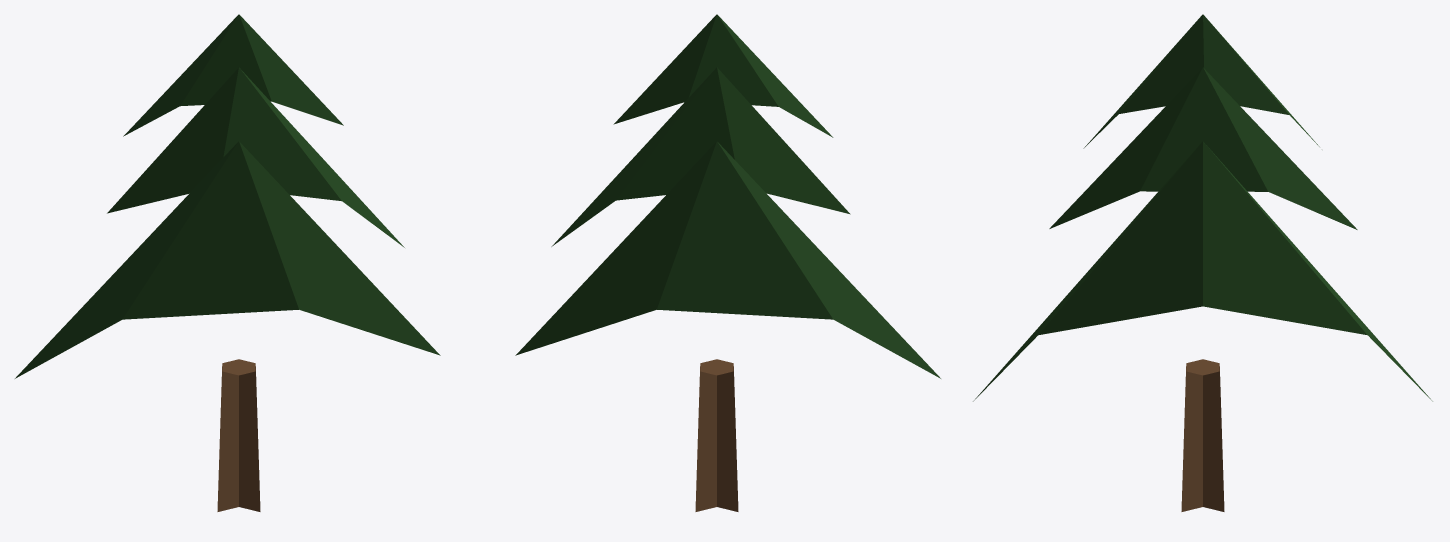
The picture shows the model from 3 angles, left to right: view 1: azimuth 30°, elevation 25°; view 2: azimuth 150°, elevation 25°; view 3: azimuth 270°, elevation 25°; orthographic projection.
Visible parts, largest first — view 1: tree-pine-b; view 2: tree-pine-b; view 3: tree-pine-b.
Boxes of the visible parts, <box> form: tree-pine-b: <box>15,14,440,511</box>; tree-pine-b: <box>515,14,940,511</box>; tree-pine-b: <box>973,14,1432,511</box>.
Bounding box in the file's own units: 3.37 × 4.02 × 3.37.
